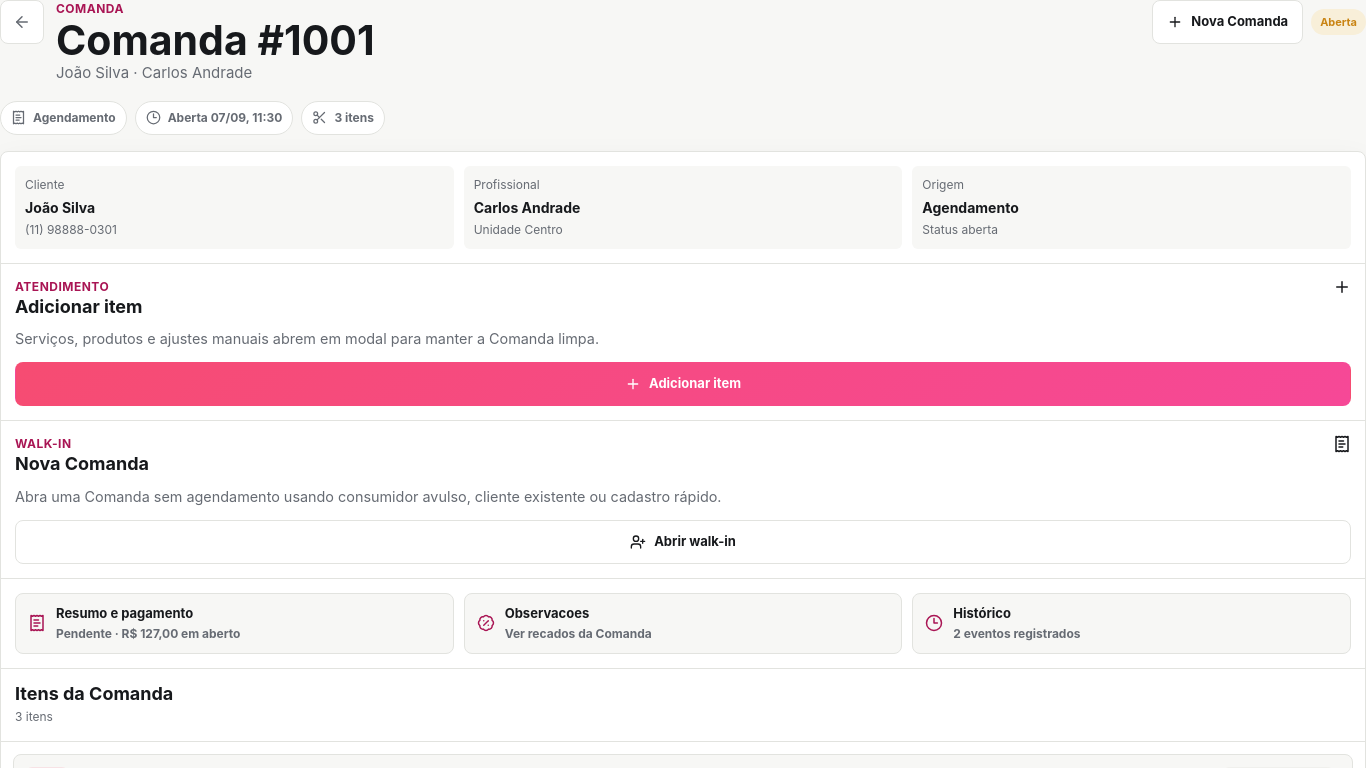
Test: OrderView › renders product catalog controls and disabled suggestions inside the add item modal
Click the button "Adicionar item". click: x=683, y=384
box: [15, 362, 1351, 406]
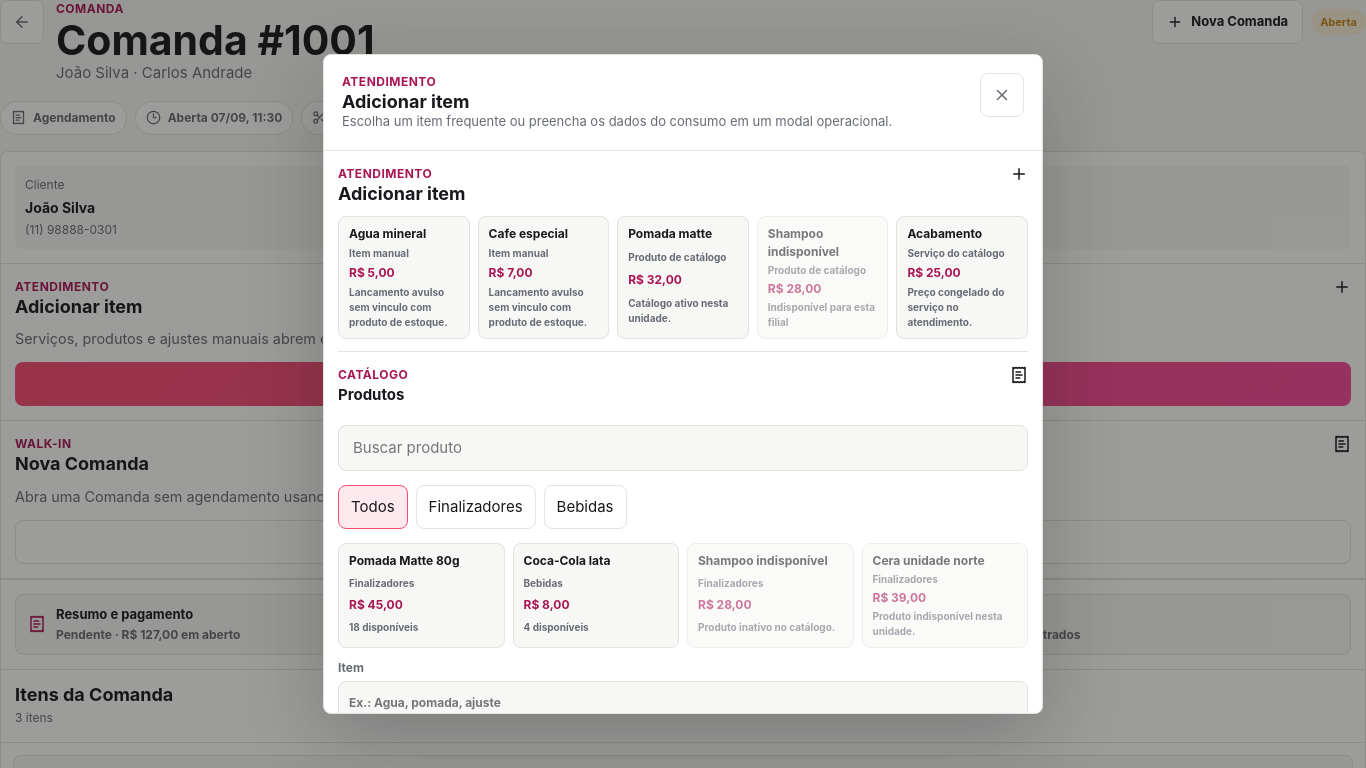
Expected: the dialog shows "Pomada matte", [617, 216, 749, 340]
Expected: the dialog shows "Produto de catálogo", [617, 216, 749, 340]
Expected: the dialog shows "Catálogo ativo nesta unidade.", [617, 216, 749, 340]
